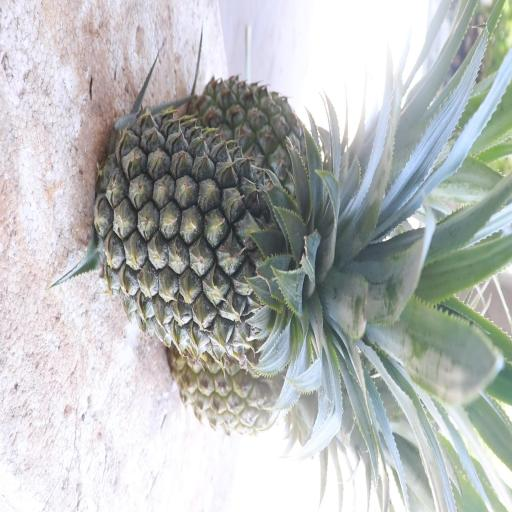------------------------------: (172, 336, 408, 462)
